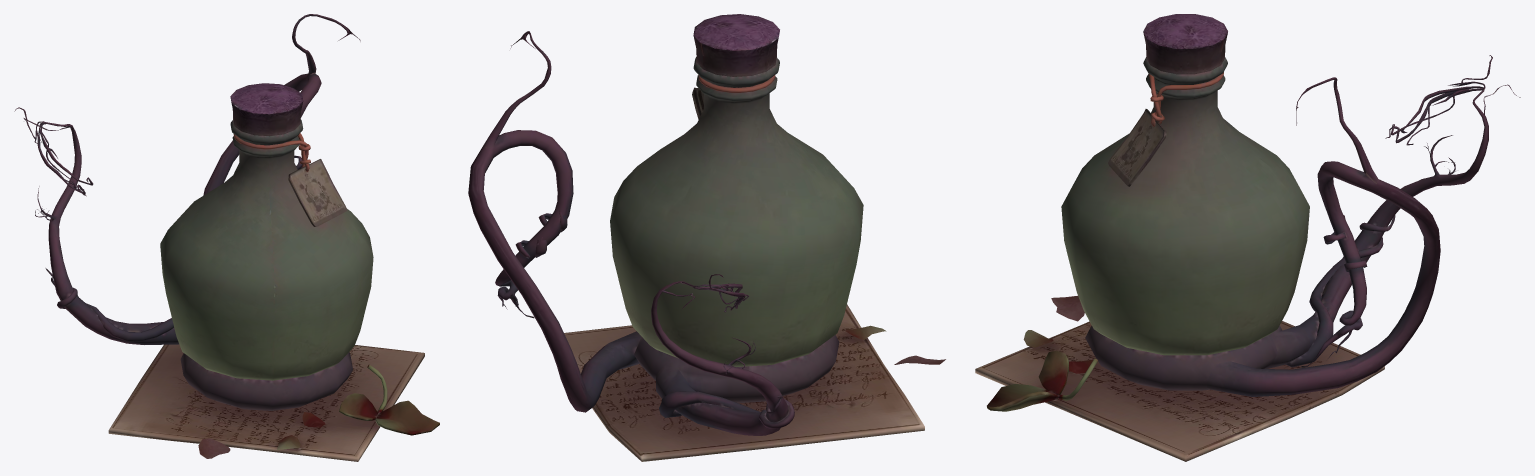
Rendered from pocao-caveira.glb.
3 views of the same model, side by side, from view 1: azimuth 30°, elevation 25°; view 2: azimuth 150°, elevation 25°; view 3: azimuth 270°, elevation 25° (orthographic). The views are drawn at different scales.
Parts seen in each view (by area): view 1: cap_low; view 2: cap_low; view 3: cap_low.
Part boxes in pixels (left/top/right/bottom): cap_low: left=14, top=14, right=439, bottom=461; cap_low: left=468, top=14, right=945, bottom=461; cap_low: left=975, top=14, right=1520, bottom=461.
Size of the model in its own units: 0.7003 by 0.6548 by 0.9077.
1 material, 1 textured.
